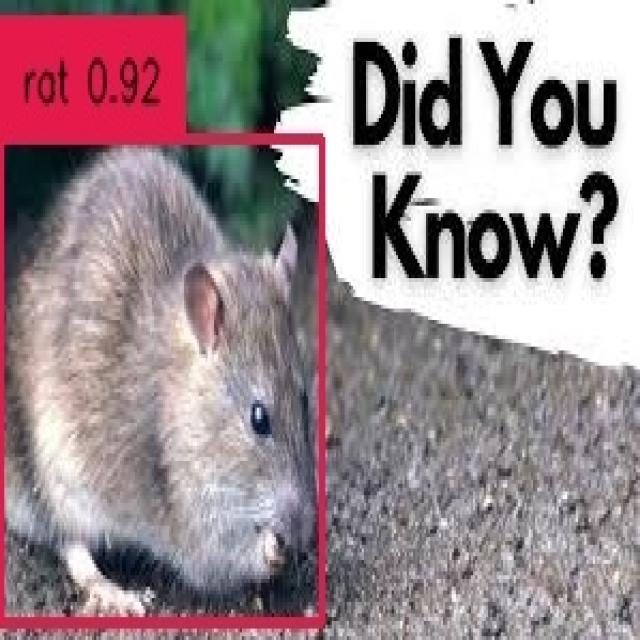rat: (0, 133, 319, 617)
